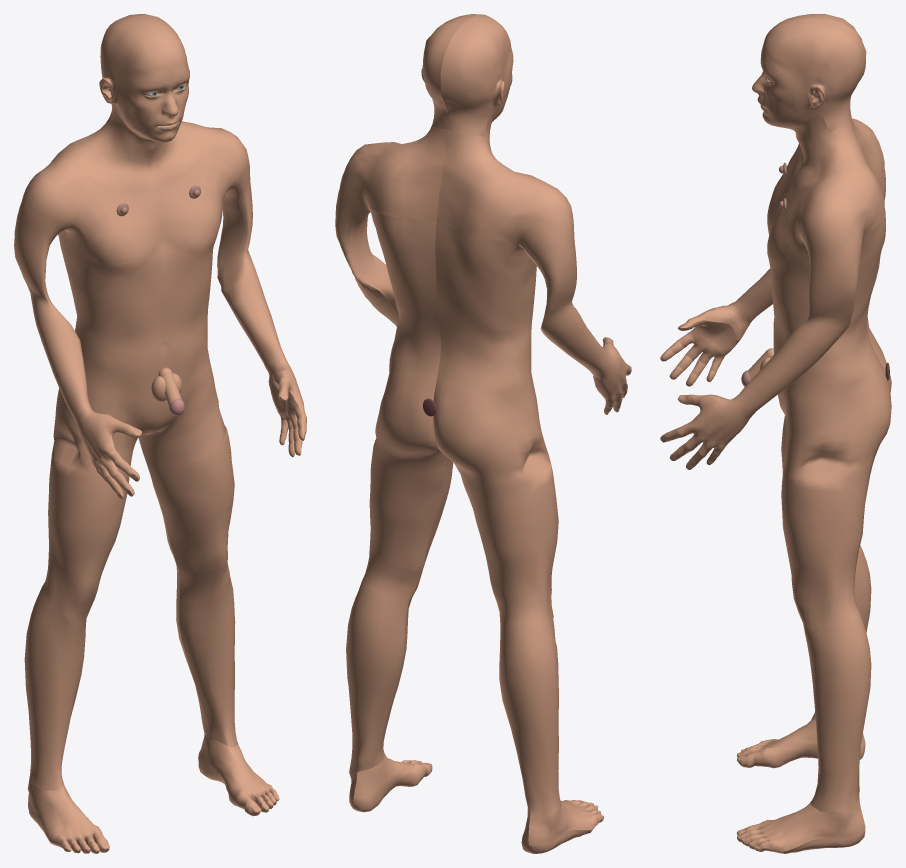
The model's file is body-jugendlicher-maennlich-real-v3.glb.
The picture shows the model from 3 angles, left to right: view 1: azimuth 30°, elevation 25°; view 2: azimuth 150°, elevation 25°; view 3: azimuth 270°, elevation 25°; orthographic projection.
Parts seen in each view (by area): view 1: real-human-body; view 2: real-human-body; view 3: real-human-body.
Part boxes in pixels (left/top/right/bottom): real-human-body: left=14, top=14, right=306, bottom=853; real-human-body: left=335, top=14, right=631, bottom=853; real-human-body: left=660, top=14, right=891, bottom=853.
Bounding box in the file's own units: 0.5033 × 1.66 × 0.4435.
Materials: 8 (1 with a texture image).
